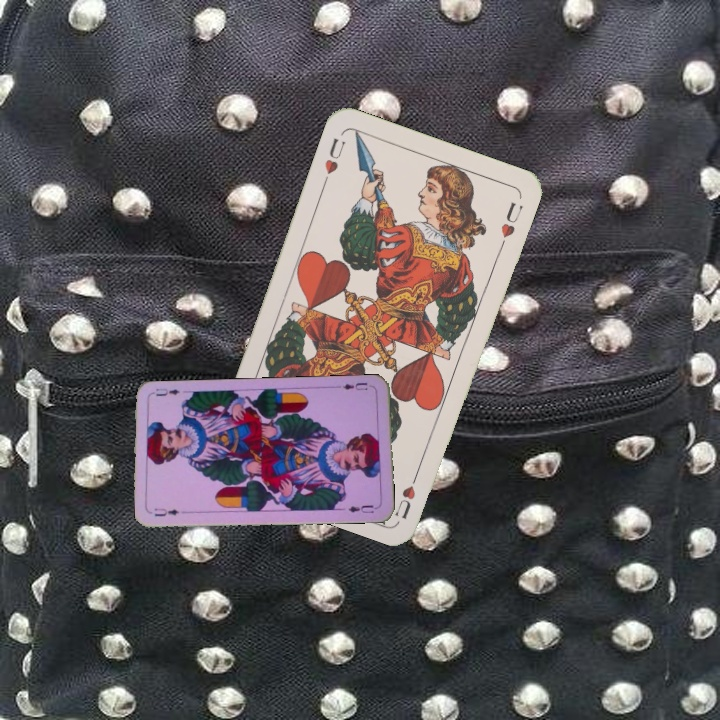EU: (334, 378, 370, 393), (150, 505, 181, 519)
HU: (391, 465, 422, 522), (319, 133, 348, 187)
